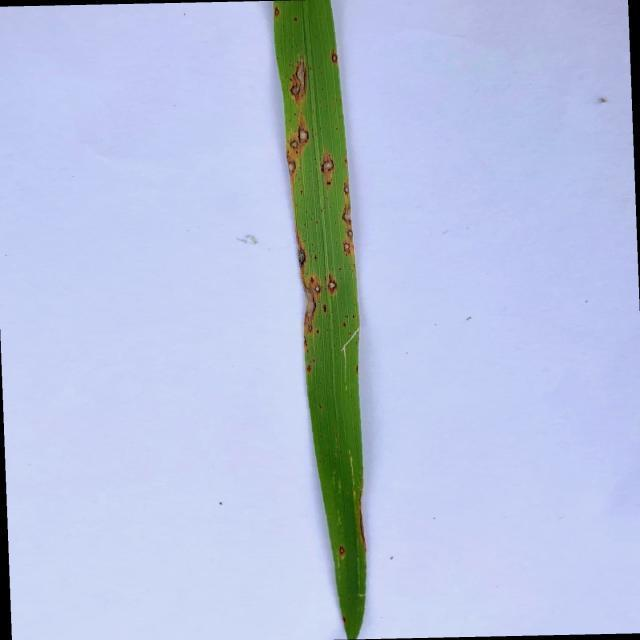Leaf_Blast: (288, 58, 308, 105), (303, 281, 316, 322), (321, 153, 336, 176), (340, 204, 352, 226), (327, 276, 339, 297), (298, 243, 308, 268), (287, 157, 300, 176), (298, 126, 309, 146), (341, 241, 352, 256), (330, 48, 338, 66), (289, 139, 301, 150), (313, 281, 322, 294), (337, 545, 346, 556), (343, 182, 350, 196), (274, 6, 282, 17), (347, 227, 352, 239), (307, 326, 314, 333)
